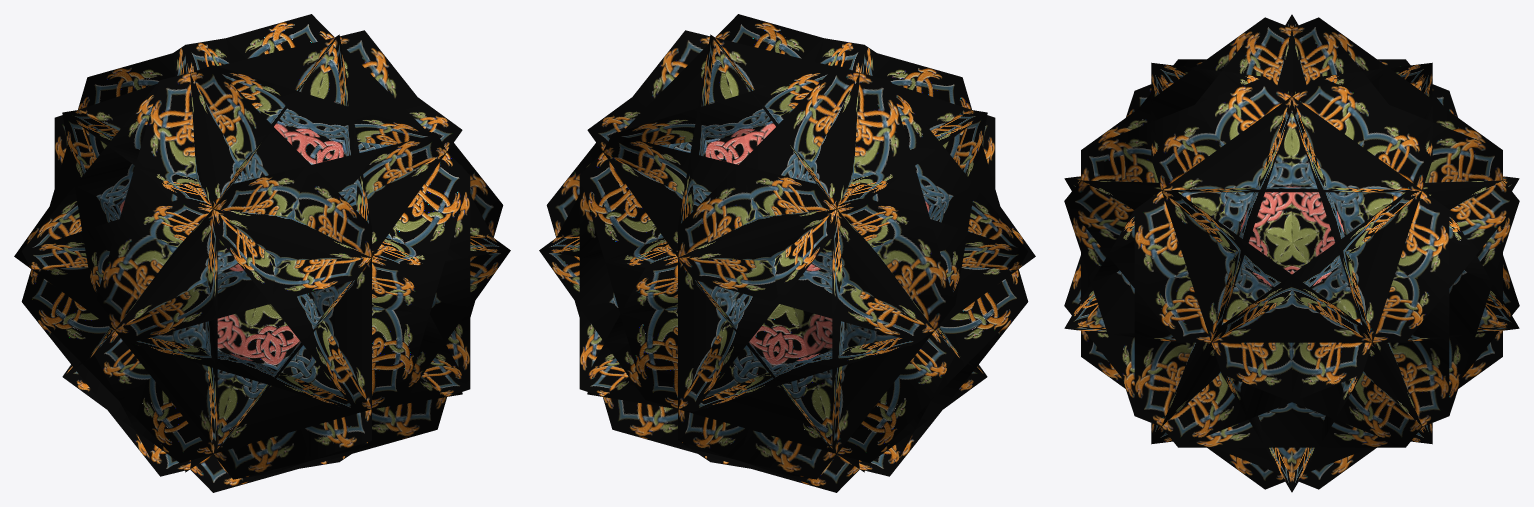
The model's file is TruncatedGreatIcosahedron.gltf.
3 renders of one model, left to right at view 1: azimuth 30°, elevation 25°; view 2: azimuth 150°, elevation 25°; view 3: azimuth 270°, elevation 25°, orthographic. The views are drawn at different scales.
Parts seen in each view (by area): view 1: TruncatedGreatIcosahedron; view 2: TruncatedGreatIcosahedron; view 3: TruncatedGreatIcosahedron.
Part boxes in pixels (left/top/right/bottom): TruncatedGreatIcosahedron: left=14, top=14, right=510, bottom=492; TruncatedGreatIcosahedron: left=539, top=14, right=1035, bottom=492; TruncatedGreatIcosahedron: left=1064, top=14, right=1519, bottom=492.
Bounding box in the file's own units: 2 × 2 × 2.
Materials: 1 (1 with a texture image).
